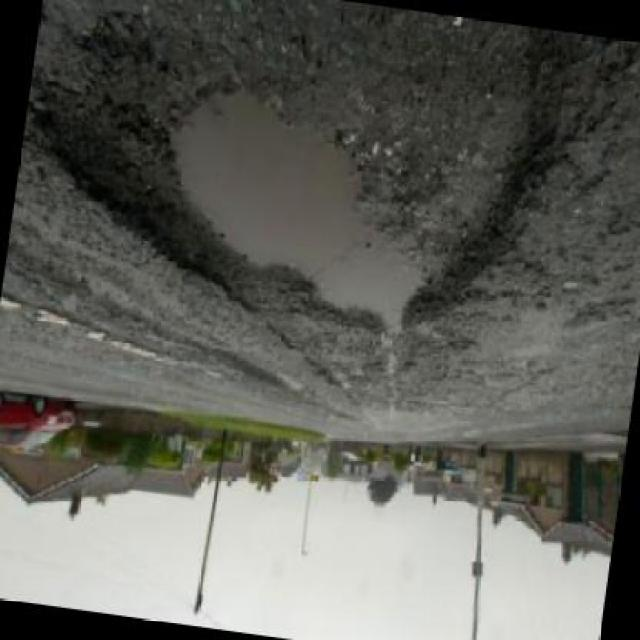pothole1: (2, 0, 576, 366)
